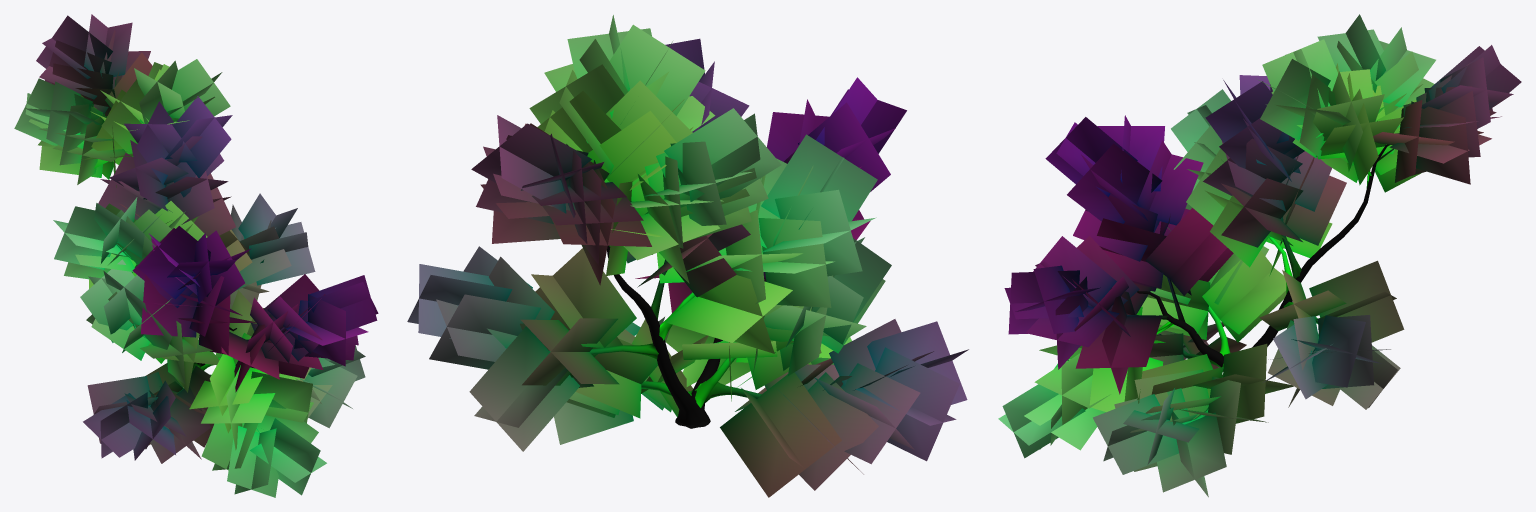
File: M_P11_Tree_6.fbx
The picture shows the model from 3 angles, left to right: view 1: azimuth 30°, elevation 25°; view 2: azimuth 150°, elevation 25°; view 3: azimuth 270°, elevation 25°; orthographic projection. The views are drawn at different scales.
Visible parts, largest first — view 1: Tree_6; view 2: Tree_6; view 3: Tree_6.
Part boxes in pixels (bbox=[...]): Tree_6: bbox=[14, 14, 378, 497]; Tree_6: bbox=[407, 15, 968, 497]; Tree_6: bbox=[998, 14, 1521, 497].
Size of the model in its own units: 574 by 672 by 780.
